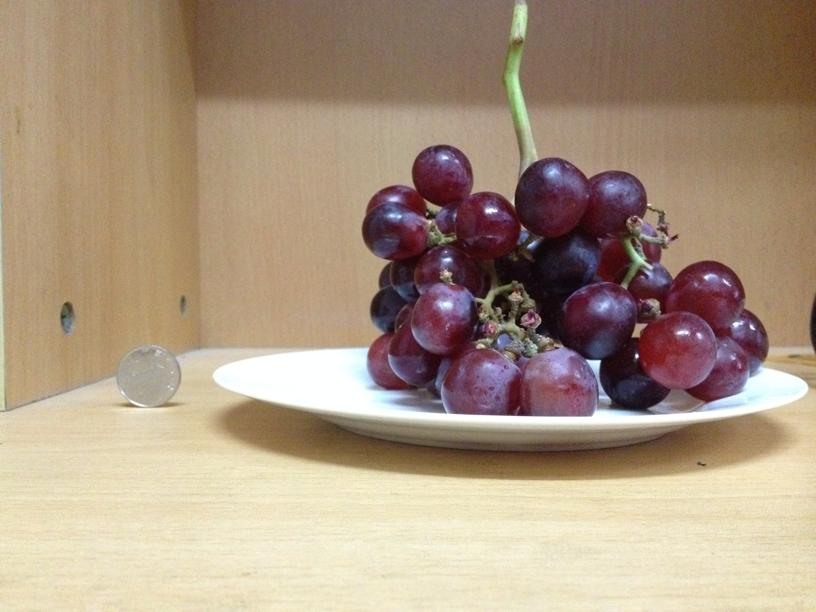coin: (115, 345, 181, 407)
grape: (355, 136, 772, 419)
